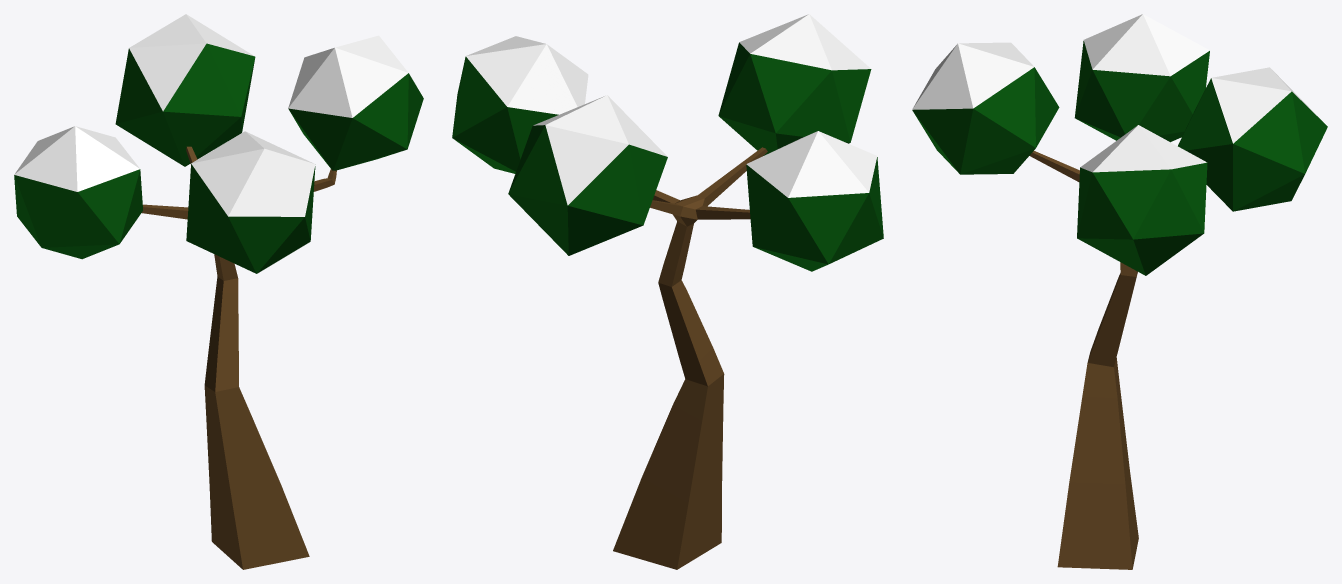
The model's file is arabelowpoly.fbx.
3 views of the same model, side by side, from view 1: azimuth 30°, elevation 25°; view 2: azimuth 150°, elevation 25°; view 3: azimuth 270°, elevation 25° (orthographic). The views are drawn at different scales.
Parts seen in each view (by area): view 1: Cube; view 2: Cube; view 3: Cube.
Boxes of the visible parts, left/top/right/bottom form: Cube: left=14, top=14, right=423, bottom=569; Cube: left=452, top=14, right=883, bottom=569; Cube: left=912, top=14, right=1327, bottom=569.
Size of the model in its own units: 2097 by 2347 by 1855.
